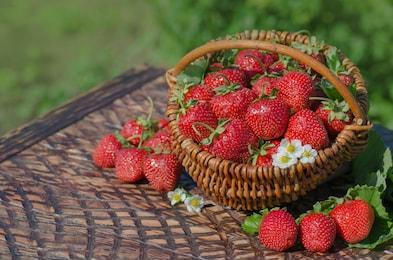Fresa: (204, 116, 259, 164), (172, 97, 223, 146), (326, 197, 376, 245), (243, 90, 290, 140), (284, 107, 333, 151), (271, 66, 316, 113), (141, 145, 183, 195), (256, 207, 298, 252), (299, 207, 339, 254), (88, 132, 131, 171), (210, 83, 259, 117), (112, 143, 151, 184)
